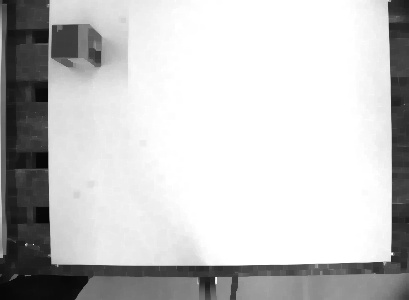b7: (48, 21, 106, 68)
